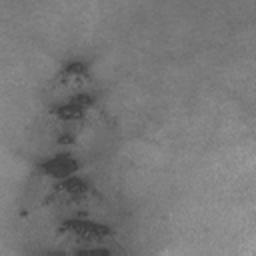Iron sheet ash: (37, 151, 113, 246), (47, 92, 96, 122), (59, 59, 92, 88), (72, 246, 113, 256), (56, 132, 78, 145), (38, 248, 68, 256), (18, 210, 29, 218)
